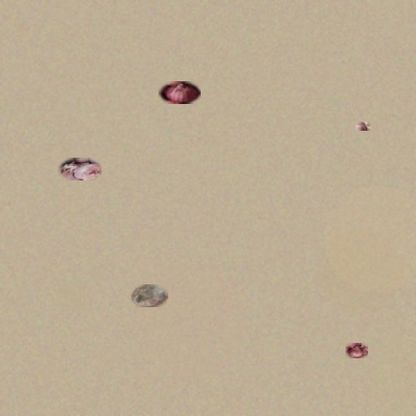healthy: (158, 81, 201, 104), (345, 343, 368, 358)
rotten: (131, 284, 168, 307)
sprouted: (58, 158, 102, 180), (356, 122, 371, 131)
